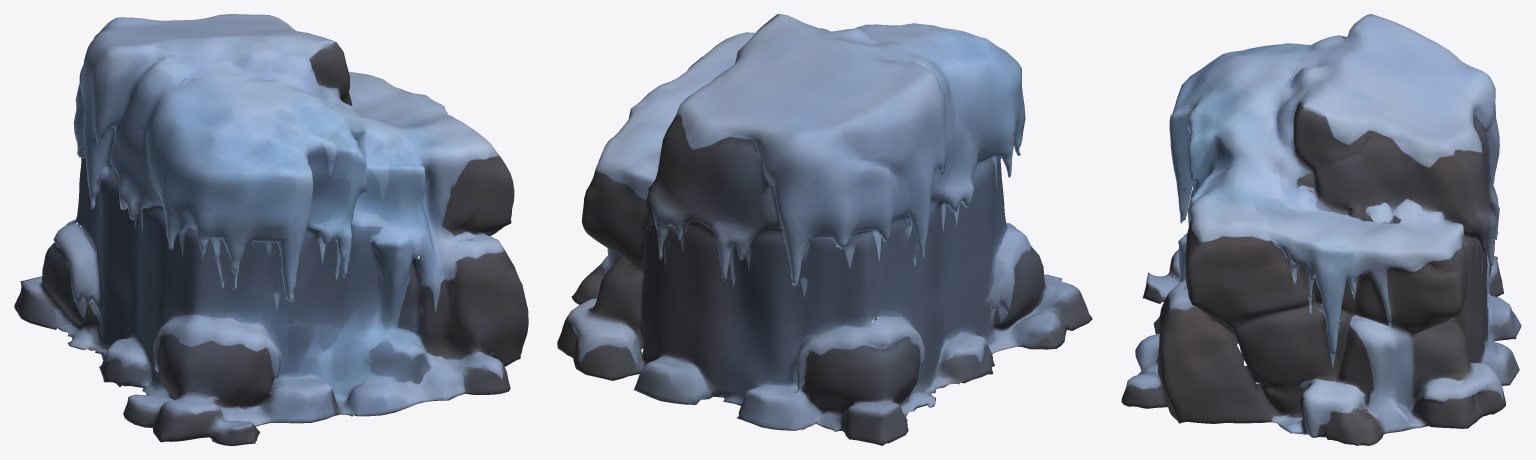
File: ice_rock.glb
The picture shows the model from 3 angles, left to right: view 1: azimuth 30°, elevation 25°; view 2: azimuth 150°, elevation 25°; view 3: azimuth 270°, elevation 25°; orthographic projection. The views are drawn at different scales.
Visible parts, largest first — view 1: tripo_node_5150eb6e; view 2: tripo_node_5150eb6e; view 3: tripo_node_5150eb6e.
Part boxes in pixels (x1,y1,x2,y2): tripo_node_5150eb6e: (14, 14, 528, 445); tripo_node_5150eb6e: (557, 14, 1092, 445); tripo_node_5150eb6e: (1121, 14, 1521, 445).
Bounding box in the file's own units: 99.29 × 71.2 × 92.95.
Materials: 1 (1 with a texture image).
